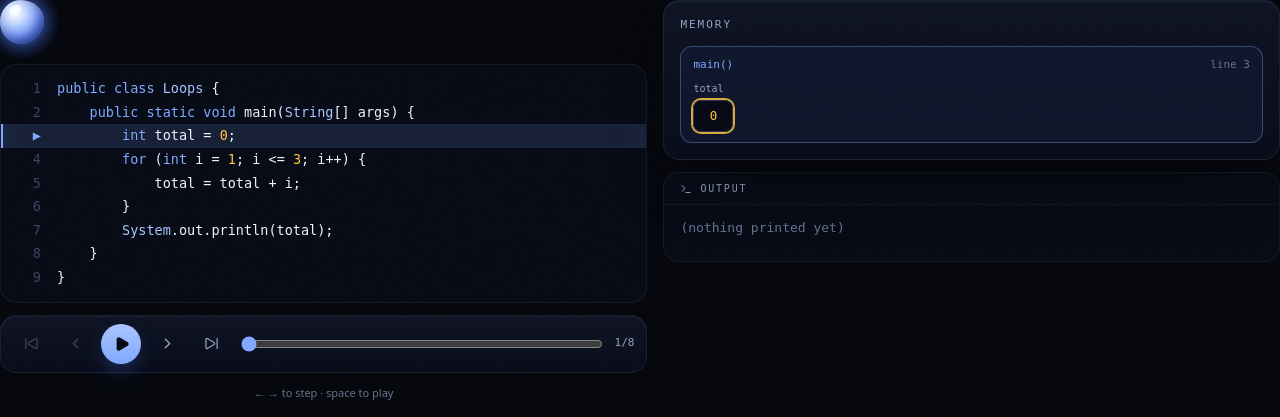
Test: TracePlayer annotations › draws the gutter arrow back to the top of the loop, then past it
What coordinates should you click on to do the following:
click the button named "next line"
I would click on:
 (167, 344)
Its box is [149,326,185,362].
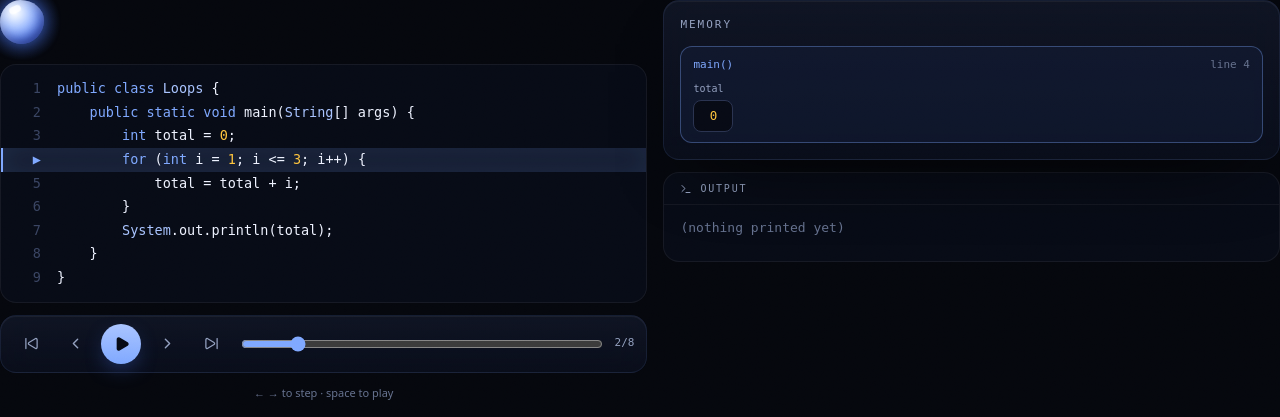
What coordinates should you click on to do the following:
click the button named "next line"
I would click on:
 (167, 344)
Its box is [149,326,185,362].
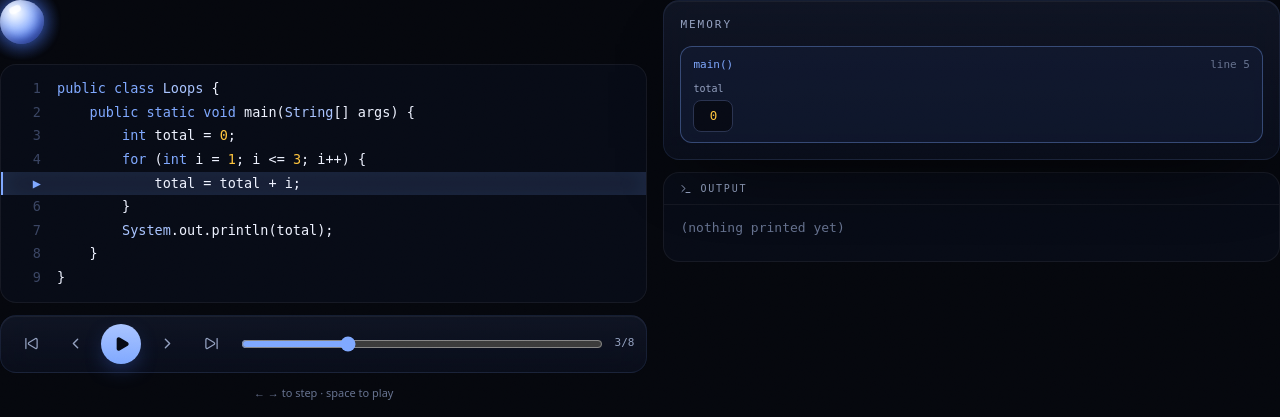
What coordinates should you click on to do the following:
click the button named "next line"
I would click on:
 (167, 344)
Its box is [149,326,185,362].
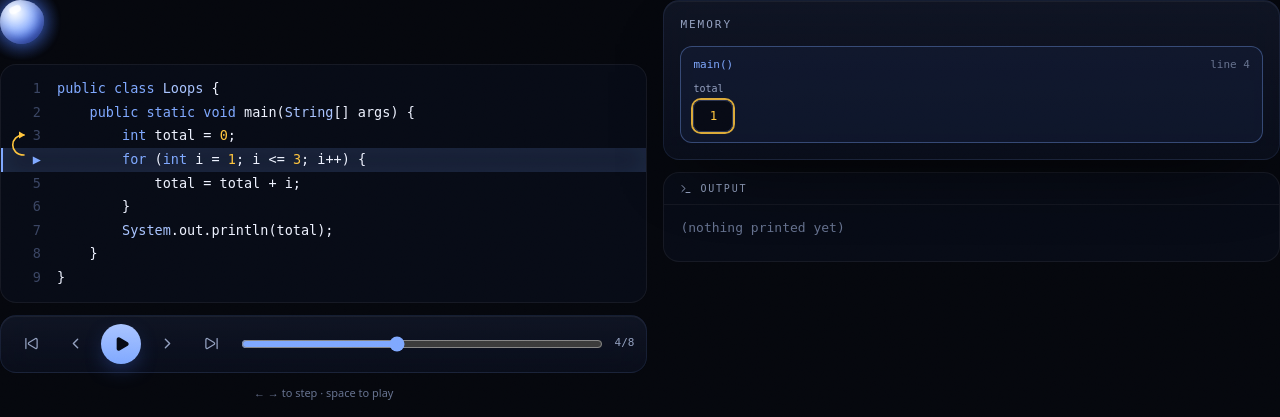
Check: the picture named "Execution went back to line 4" is shown, box [1,65,57,215]
What coordinates should you click on to do the following:
click the button named "next line"
I would click on:
 (167, 344)
Its box is [149,326,185,362].
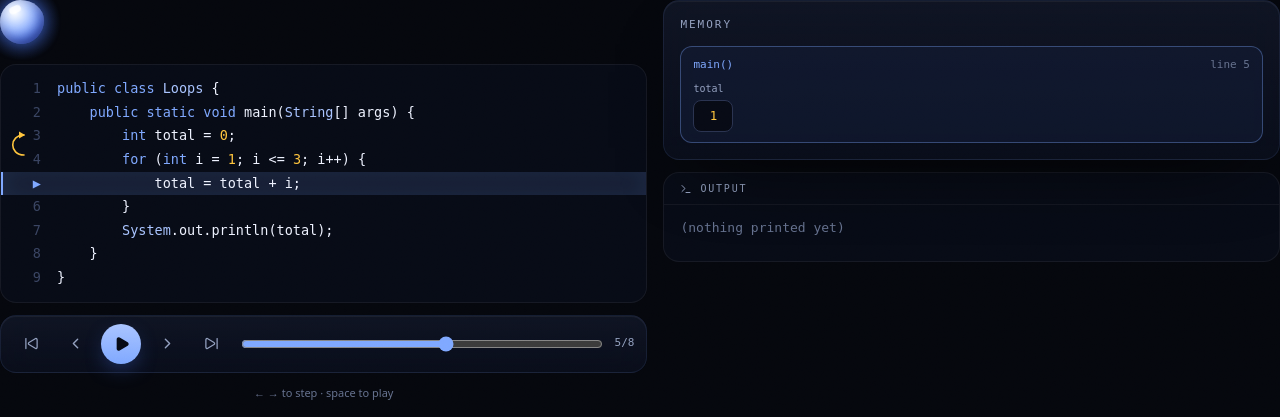
What coordinates should you click on to do the following:
click the button named "next line"
I would click on:
 (167, 344)
Its box is [149,326,185,362].
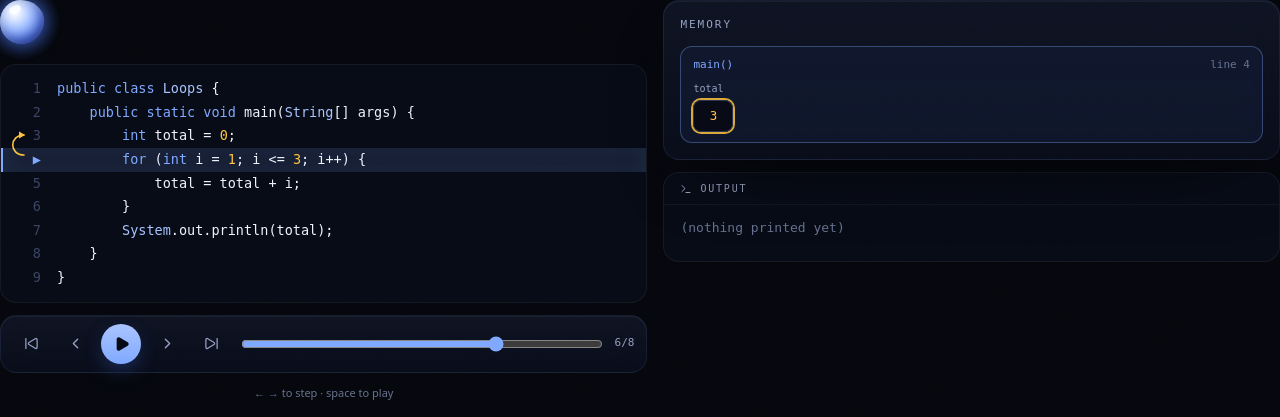
What coordinates should you click on to do the following:
click the button named "next line"
I would click on:
 (167, 344)
Its box is [149,326,185,362].
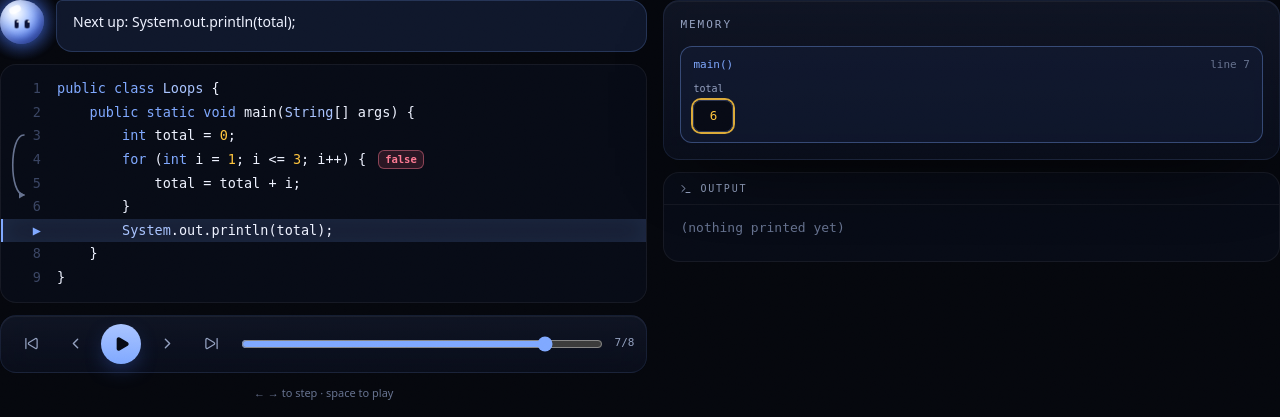
Check: the picture named "Execution skipped ahead to line 7" is shown, box [1,65,57,215]
